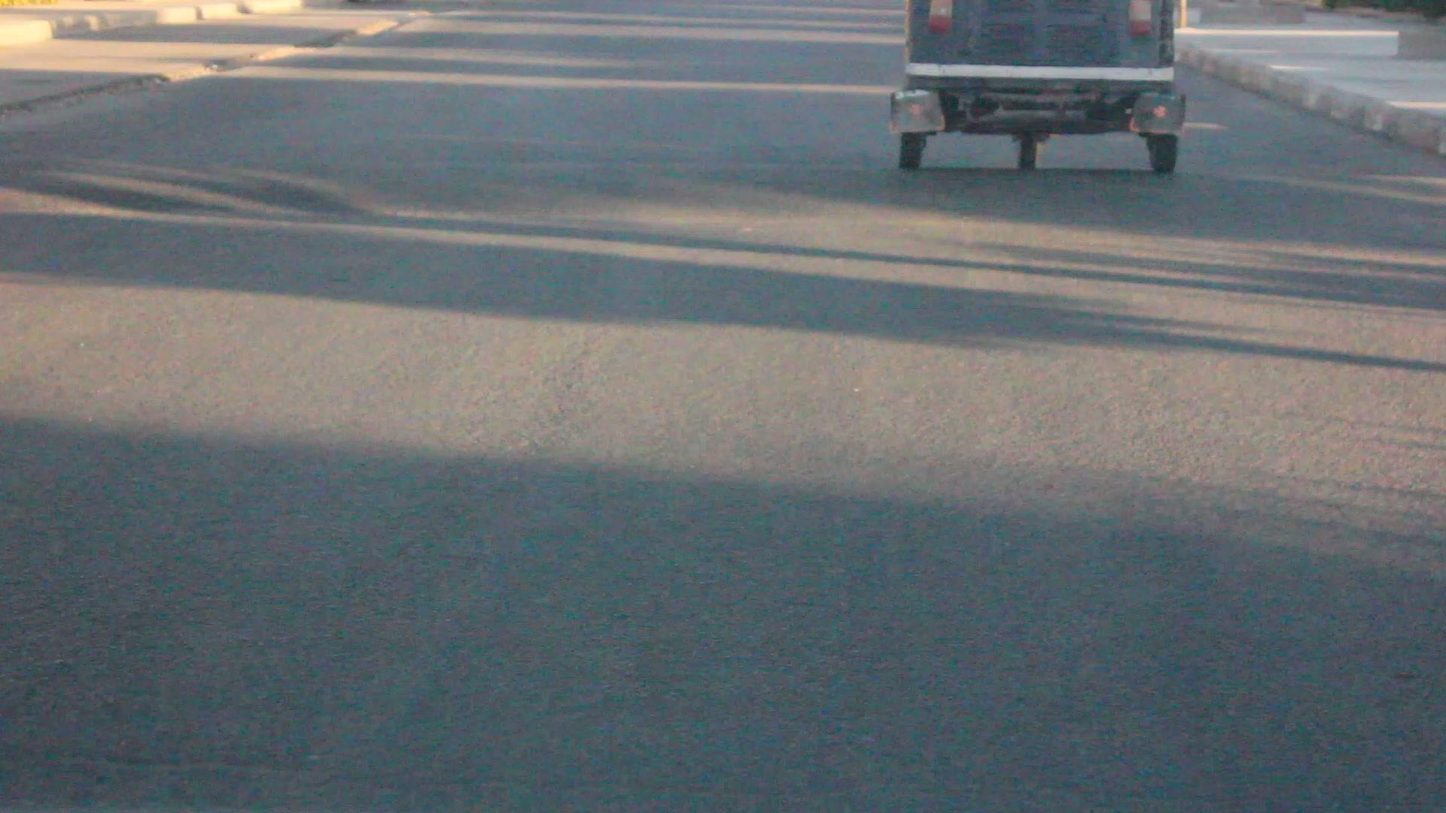Bump: (0, 145, 1446, 275)
